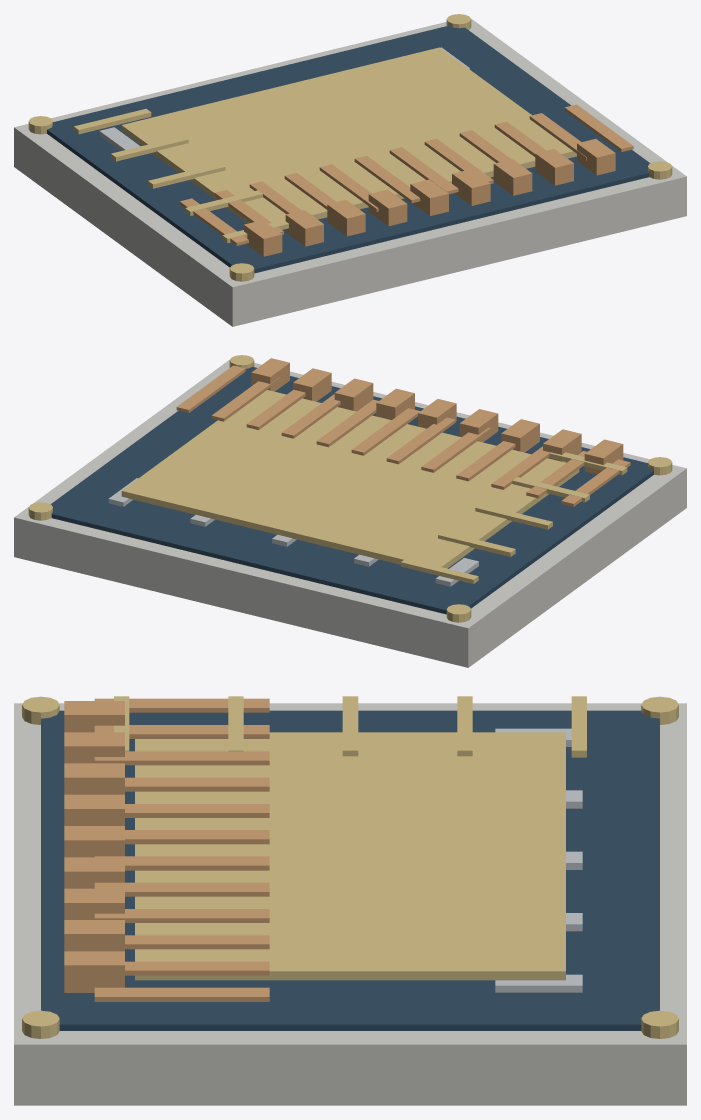
Rendered from 08_L79_IOChiplet.glb.
The picture shows the model from 3 angles, top to bottom: view 1: azimuth 30°, elevation 25°; view 2: azimuth 150°, elevation 25°; view 3: azimuth 270°, elevation 25°; orthographic projection. The views are drawn at different scales.
Parts seen in each view (by area): view 1: IOChiplet_Node_0000, IOChiplet_Node_0002, IOChiplet_Node_0001, IOChiplet_Node_0147, IOChiplet_Node_0143, IOChiplet_Node_0148, IOChiplet_Node_0142, IOChiplet_Node_0144, IOChiplet_Node_0149, IOChiplet_Node_0146, IOChiplet_Node_0141, IOChiplet_Node_0145 (+17 smaller); view 2: IOChiplet_Node_0002, IOChiplet_Node_0000, IOChiplet_Node_0001, IOChiplet_Node_0147, IOChiplet_Node_0014, IOChiplet_Node_0009, IOChiplet_Node_0148, IOChiplet_Node_0008, IOChiplet_Node_0143, IOChiplet_Node_0010, IOChiplet_Node_0149, IOChiplet_Node_0144 (+17 smaller); view 3: IOChiplet_Node_0002, IOChiplet_Node_0000, IOChiplet_Node_0001, IOChiplet_Node_0014, IOChiplet_Node_0149, IOChiplet_Node_0005, IOChiplet_Node_0010, IOChiplet_Node_0011, IOChiplet_Node_0009, IOChiplet_Node_0006, IOChiplet_Node_0008, IOChiplet_Node_0012 (+21 smaller).
Part boxes in pixels (x1,y1,x2,y2): IOChiplet_Node_0000: [14, 18, 686, 326]; IOChiplet_Node_0002: [121, 47, 576, 223]; IOChiplet_Node_0001: [47, 25, 650, 273]; IOChiplet_Node_0147: [493, 159, 532, 195]; IOChiplet_Node_0143: [327, 200, 365, 236]; IOChiplet_Node_0148: [535, 149, 573, 185]; IOChiplet_Node_0142: [285, 210, 323, 246]; IOChiplet_Node_0144: [368, 189, 407, 226]; IOChiplet_Node_0149: [577, 139, 615, 175]; IOChiplet_Node_0146: [452, 169, 490, 205]; IOChiplet_Node_0141: [244, 220, 282, 256]; IOChiplet_Node_0145: [410, 179, 448, 215]; IOChiplet_Node_0002: [121, 390, 579, 568]; IOChiplet_Node_0000: [14, 359, 686, 667]; IOChiplet_Node_0001: [50, 366, 653, 614]; IOChiplet_Node_0147: [334, 378, 373, 411]; IOChiplet_Node_0014: [176, 365, 245, 412]; IOChiplet_Node_0009: [351, 408, 420, 455]; IOChiplet_Node_0148: [293, 368, 331, 401]; IOChiplet_Node_0008: [386, 417, 455, 464]; IOChiplet_Node_0143: [501, 419, 539, 452]; IOChiplet_Node_0010: [316, 399, 378, 447]; IOChiplet_Node_0149: [251, 358, 289, 391]; IOChiplet_Node_0144: [459, 409, 498, 442]; IOChiplet_Node_0002: [135, 732, 565, 980]; IOChiplet_Node_0000: [14, 703, 686, 1105]; IOChiplet_Node_0001: [41, 710, 659, 1030]; IOChiplet_Node_0014: [94, 987, 269, 1001]; IOChiplet_Node_0149: [64, 951, 124, 992]; IOChiplet_Node_0005: [94, 751, 269, 765]; IOChiplet_Node_0010: [94, 882, 269, 896]; IOChiplet_Node_0011: [94, 909, 269, 922]; IOChiplet_Node_0009: [94, 856, 269, 870]; IOChiplet_Node_0006: [125, 777, 269, 791]; IOChiplet_Node_0008: [125, 830, 269, 844]; IOChiplet_Node_0012: [125, 935, 269, 949].
Bounding box in the file's own units: 1.2 × 0.1745 × 1.
